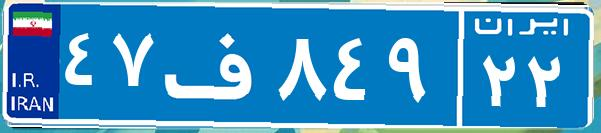2: (475, 38, 525, 113), (525, 38, 570, 115)
4: (330, 28, 385, 110), (57, 26, 110, 107)
7: (110, 28, 158, 105)
8: (273, 28, 330, 110)
9: (385, 28, 445, 110)
ف: (158, 15, 273, 115)
